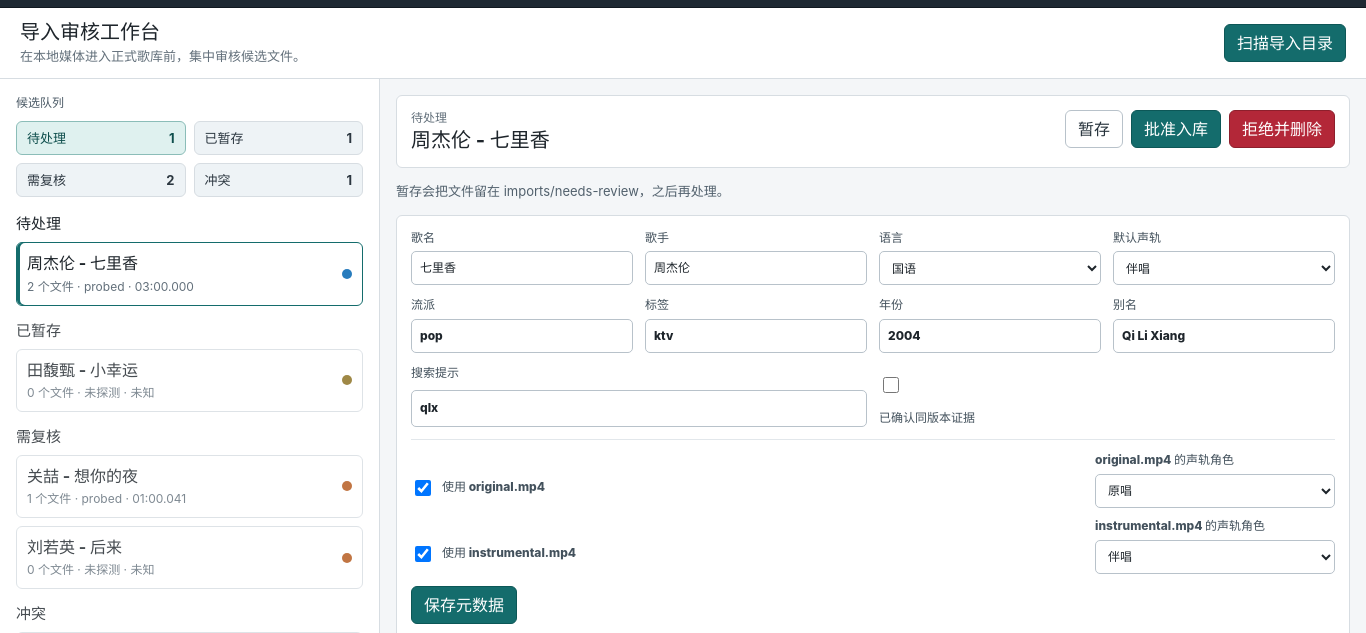
it: import review workbench › renders real MV cover, media facts, provenance, and review warnings
Click the button "关喆 - 想你的夜 1 个文件 · probed · 01:00.041": click(43, 476) [16,455,363,518]
(page scrolled)
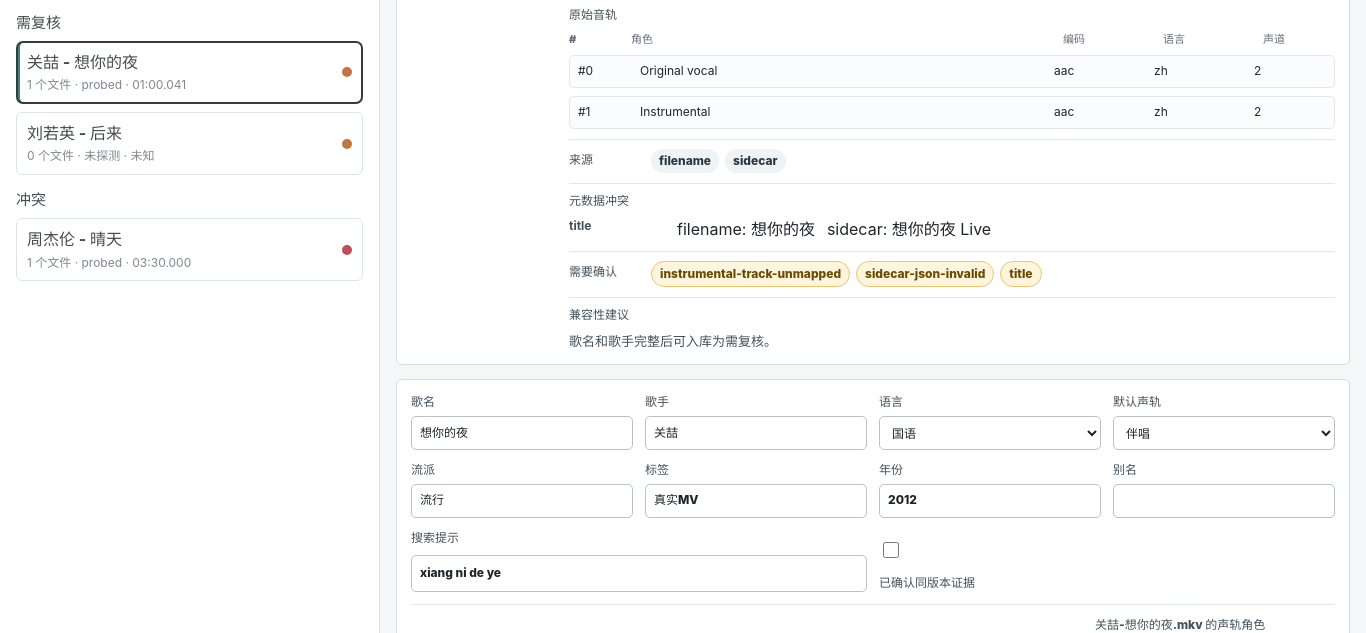
Expected: the text "来源" is shown, [569,152,593,166]
Expected: the text "filename" is shown, [651,148,719,173]
Expected: the text "需要确认" is shown, [569,264,617,278]
